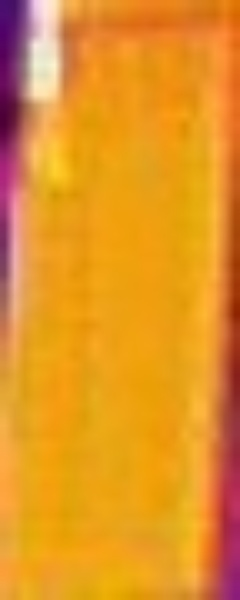Hotspot: (23, 1, 69, 110)
